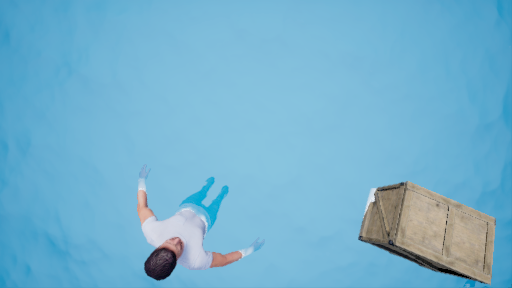person: (128, 171, 264, 279)
